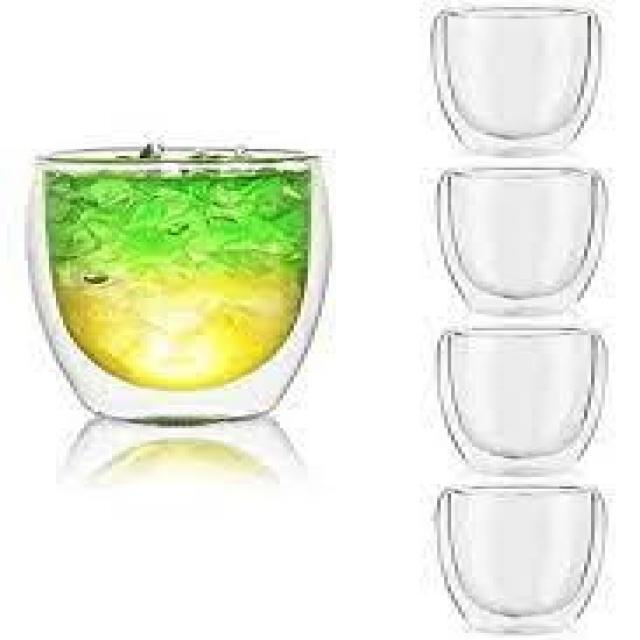non-organic waste: (28, 141, 332, 425), (430, 167, 609, 316)
